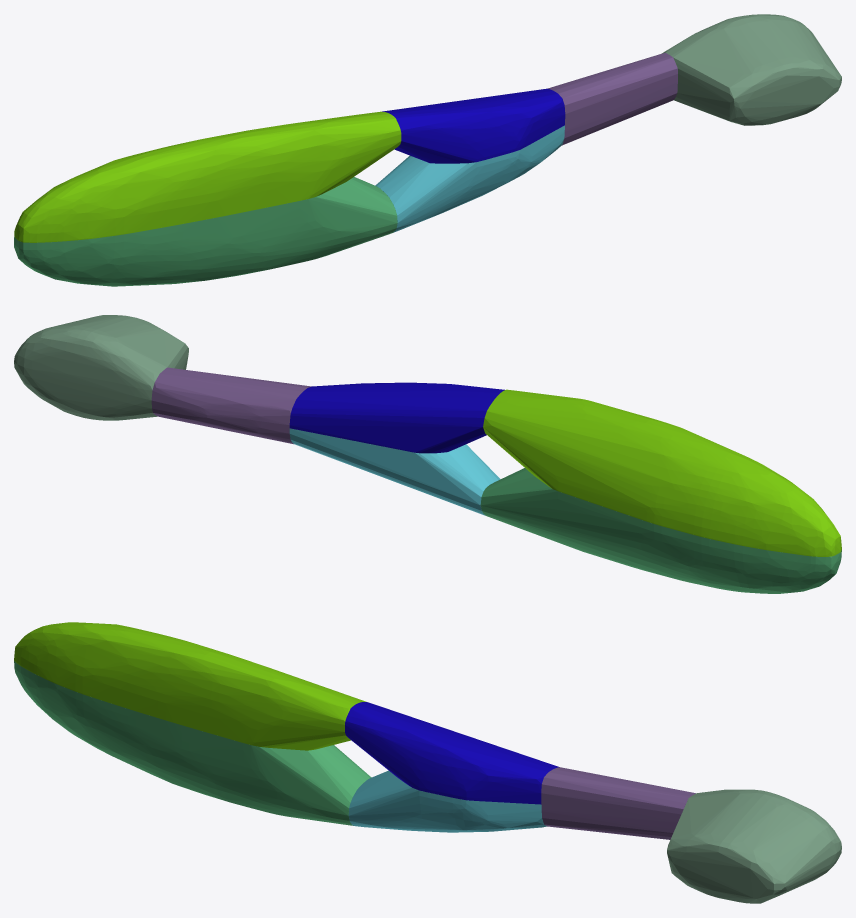
Rendered from coacd_collision.obj.
3 views of the same model, one above another, from view 1: azimuth 30°, elevation 25°; view 2: azimuth 150°, elevation 25°; view 3: azimuth 330°, elevation 25° (orthographic). The views are drawn at different scales.
Visible parts, largest first — view 1: geometry_4, geometry_3, geometry_0, geometry_5, geometry_2, geometry_1; view 2: geometry_4, geometry_3, geometry_0, geometry_5, geometry_1, geometry_2; view 3: geometry_4, geometry_3, geometry_0, geometry_5, geometry_1, geometry_2.
Boxes of the visible parts, box(x1,y1,x2,y2) form: geometry_4: box(14, 111, 401, 242); geometry_3: box(14, 177, 397, 286); geometry_0: box(662, 14, 841, 125); geometry_5: box(382, 88, 565, 163); geometry_2: box(375, 125, 564, 232); geometry_1: box(548, 52, 677, 145); geometry_4: box(483, 389, 841, 556); geometry_3: box(480, 468, 841, 593); geometry_0: box(14, 315, 188, 420); geometry_5: box(289, 382, 504, 453); geometry_1: box(151, 367, 311, 444); geometry_2: box(289, 428, 500, 515); geometry_4: box(14, 622, 366, 750); geometry_3: box(14, 661, 371, 825); geometry_0: box(667, 789, 841, 903); geometry_5: box(345, 702, 559, 804); geometry_1: box(541, 767, 695, 839); geometry_2: box(348, 770, 546, 832).
Size of the model in its own units: 136 by 22.71 by 17.62.
